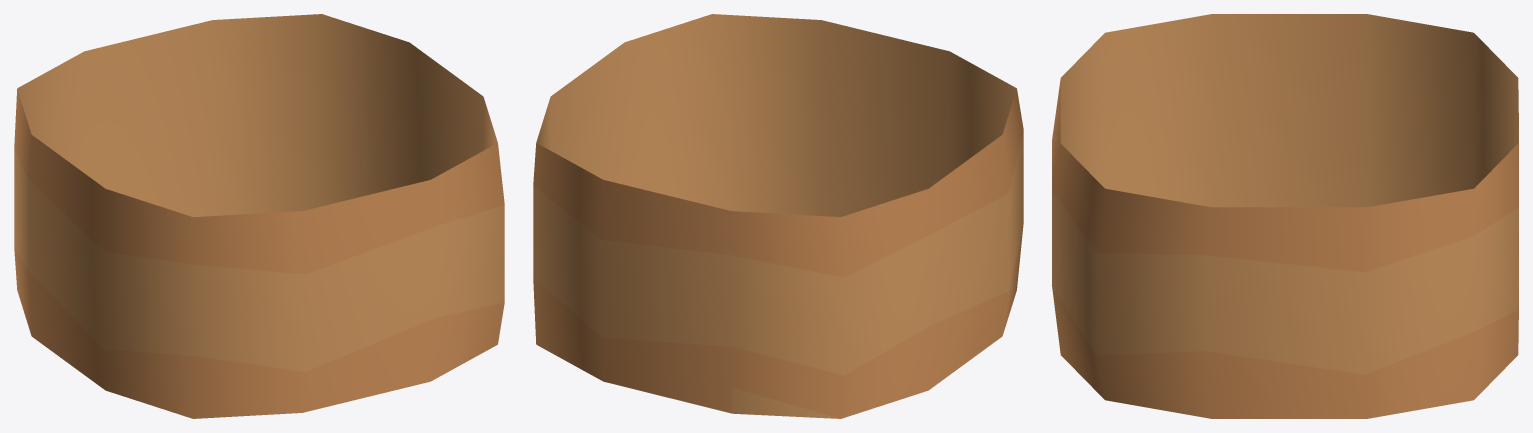
Rendered from ground 01 tile.fbx.
The picture shows the model from 3 angles, left to right: view 1: azimuth 30°, elevation 25°; view 2: azimuth 150°, elevation 25°; view 3: azimuth 270°, elevation 25°; orthographic projection. The views are drawn at different scales.
Visible parts, largest first — view 1: ground 01 tile, ground 01 tile low; view 2: ground 01 tile, ground 01 tile low; view 3: ground 01 tile, ground 01 tile low.
Part boxes in pixels (x1,y1,x2,y2): ground 01 tile: (14, 89, 504, 418); ground 01 tile low: (17, 14, 497, 216); ground 01 tile: (533, 89, 1023, 418); ground 01 tile low: (536, 14, 1016, 418); ground 01 tile: (1052, 80, 1518, 418); ground 01 tile low: (1060, 14, 1518, 207).
Bounding box in the file's own units: 200 × 100 × 200.
Materials: 1 (1 with a texture image).
